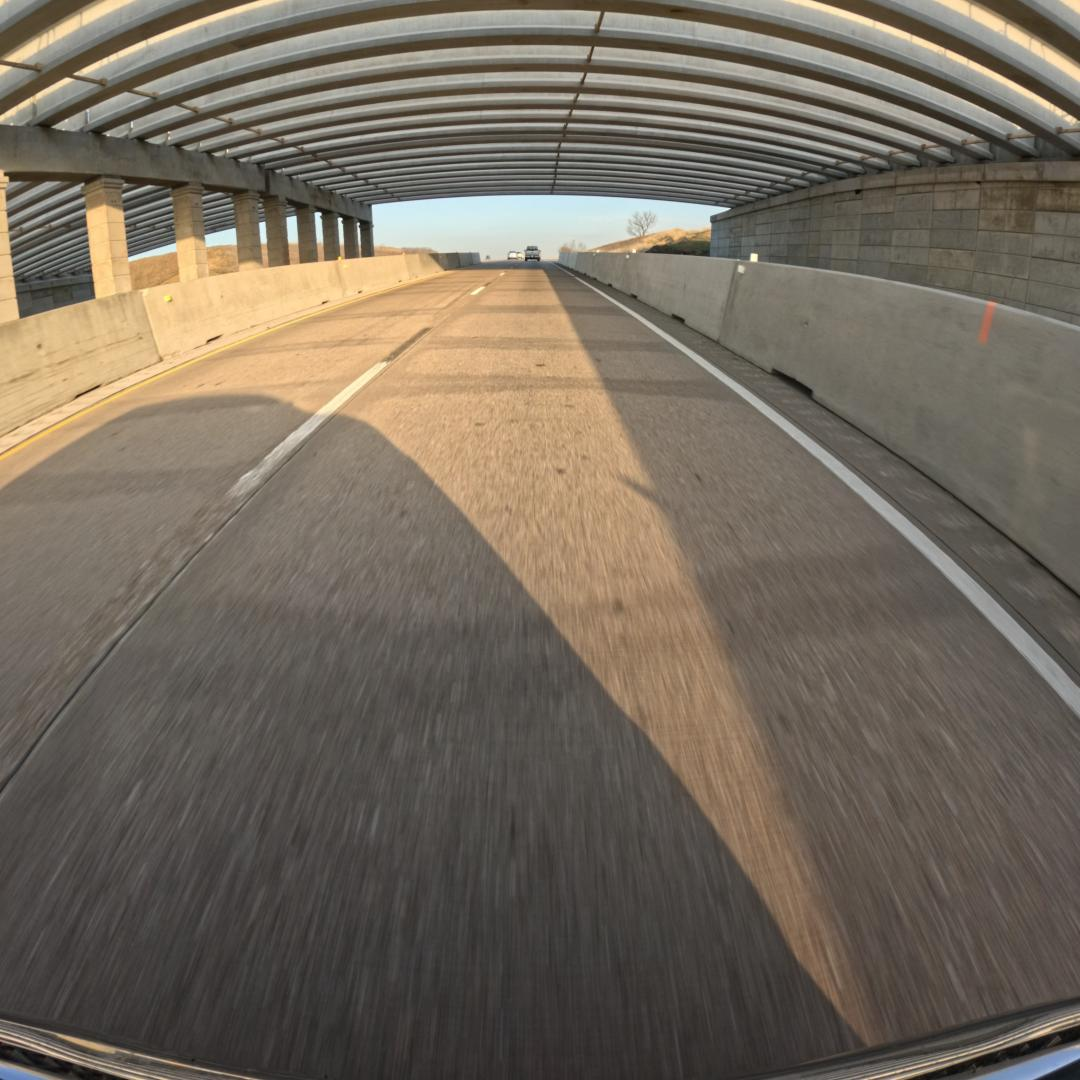lane0: (0, 265, 1080, 1077)
lane1: (0, 269, 502, 791)
